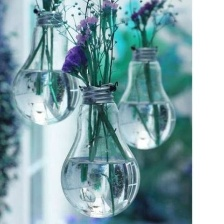light_bulb: (56, 80, 143, 222), (6, 5, 88, 126), (112, 42, 180, 151)
